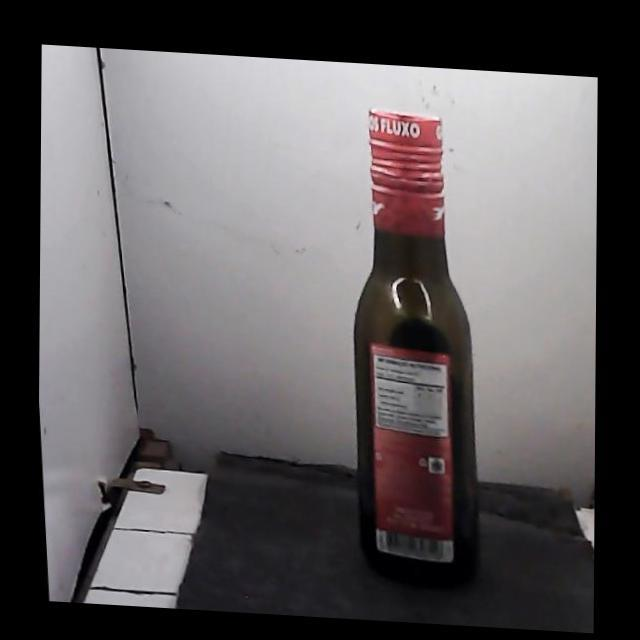vidro: (354, 109, 477, 581)
